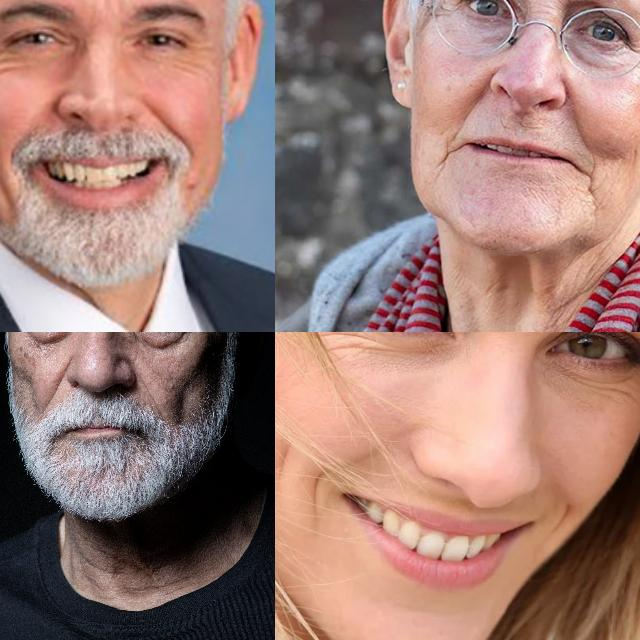crows_feet: (0, 41, 9, 78)
frown_line: (527, 0, 573, 9)
gummy_smile: (456, 74, 488, 128), (144, 97, 184, 139), (564, 93, 592, 149), (48, 358, 74, 408), (136, 372, 164, 412)
masseter: (275, 437, 291, 487)
sad_smile: (578, 167, 606, 217), (308, 462, 328, 528), (432, 137, 461, 177), (547, 498, 569, 546)
